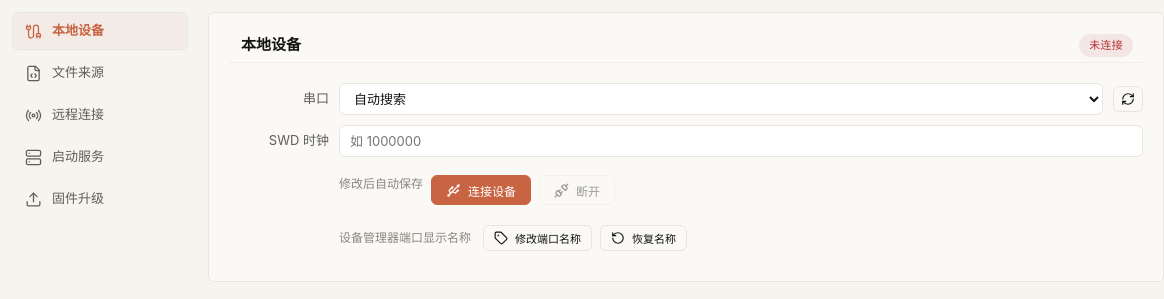
Test case: ConfigView › fills the detected serial port after an automatic connection succeeds
Click the button with test id "connect-local" at (481, 190), box 431,175 -> 531,205
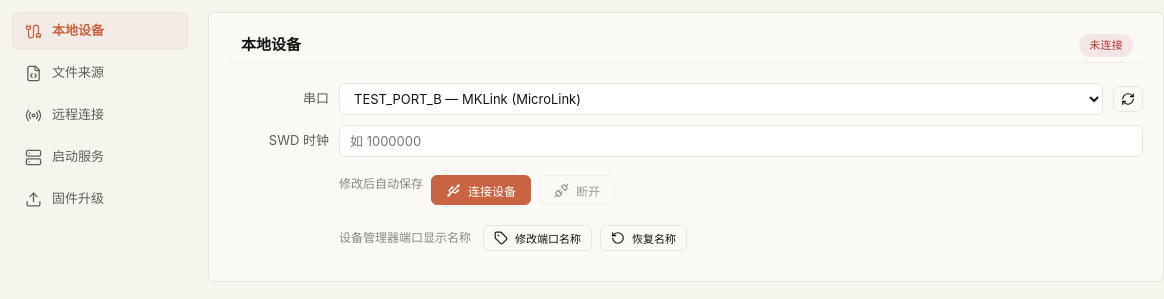
expect the dropdown with test id "local-port" shows "TEST_PORT_B — MKLink (MicroLink)": met, box 339,83 -> 1103,115
